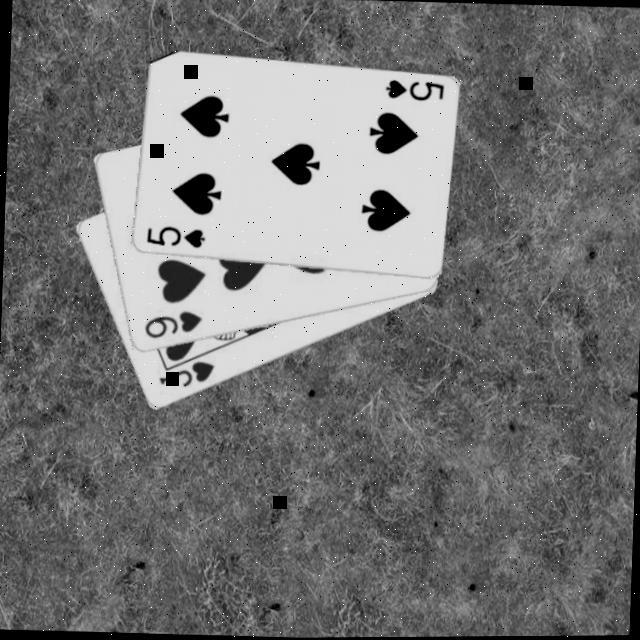5S: (141, 220, 206, 250), (379, 75, 444, 103)
9H: (139, 305, 203, 341)
JH: (153, 355, 215, 389)
